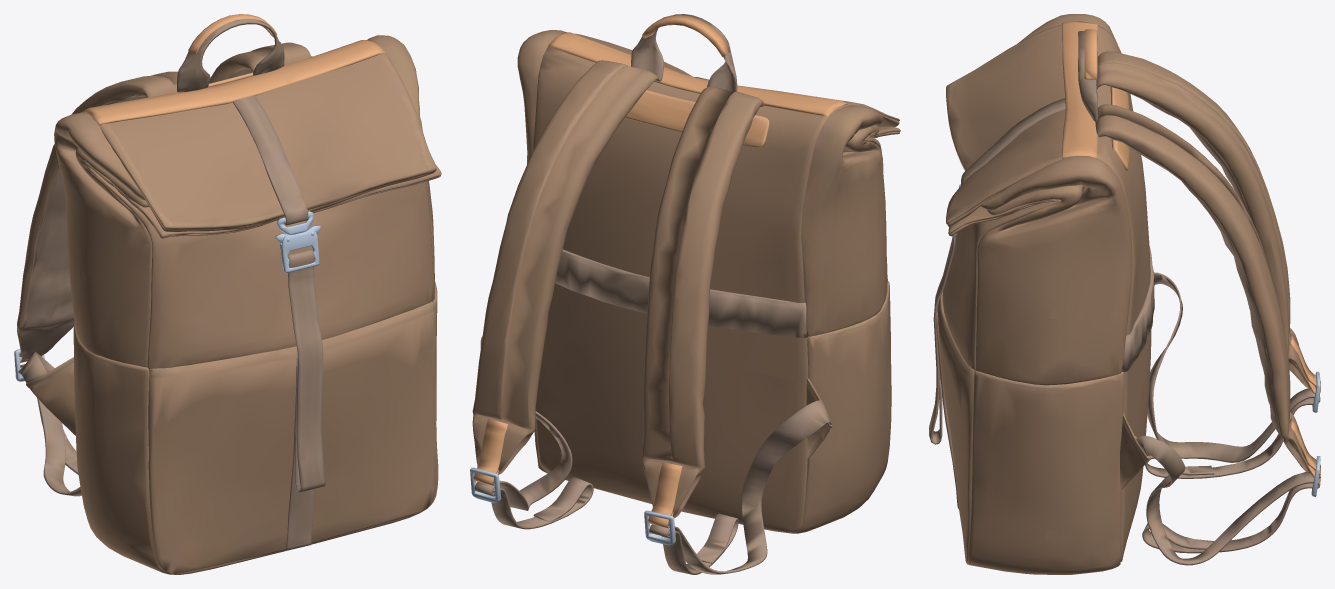
Rendered from backpack-daypack.glb.
The picture shows the model from 3 angles, left to right: view 1: azimuth 30°, elevation 25°; view 2: azimuth 150°, elevation 25°; view 3: azimuth 270°, elevation 25°; orthographic projection. The views are drawn at different scales.
Parts seen in each view (by area): view 1: Object_0; view 2: Object_0; view 3: Object_0.
Boxes of the visible parts, bbox=[...] form: Object_0: bbox=[14, 14, 441, 574]; Object_0: bbox=[470, 14, 900, 574]; Object_0: bbox=[929, 14, 1320, 574].
Bounding box in the file's own units: 0.3664 × 0.48 × 0.3569.
Materials: 1 (1 with a texture image).
